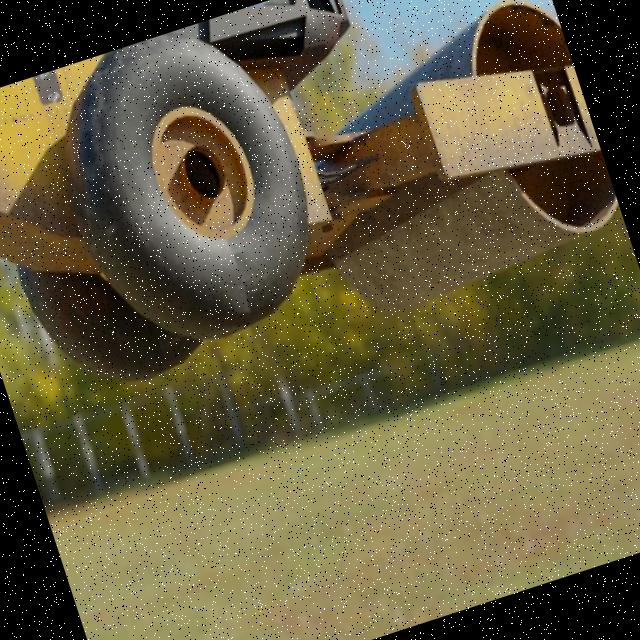Roller: (0, 0, 630, 437)
